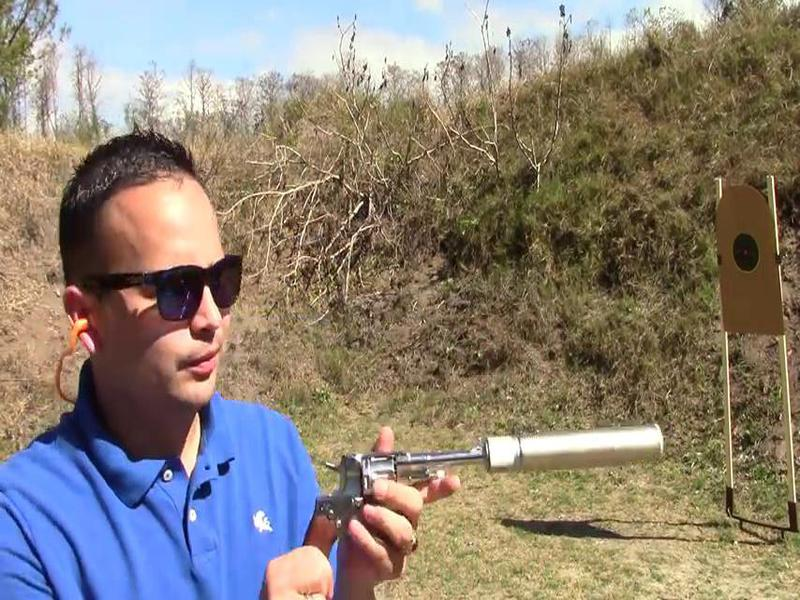Revolver: (277, 434, 502, 594)
